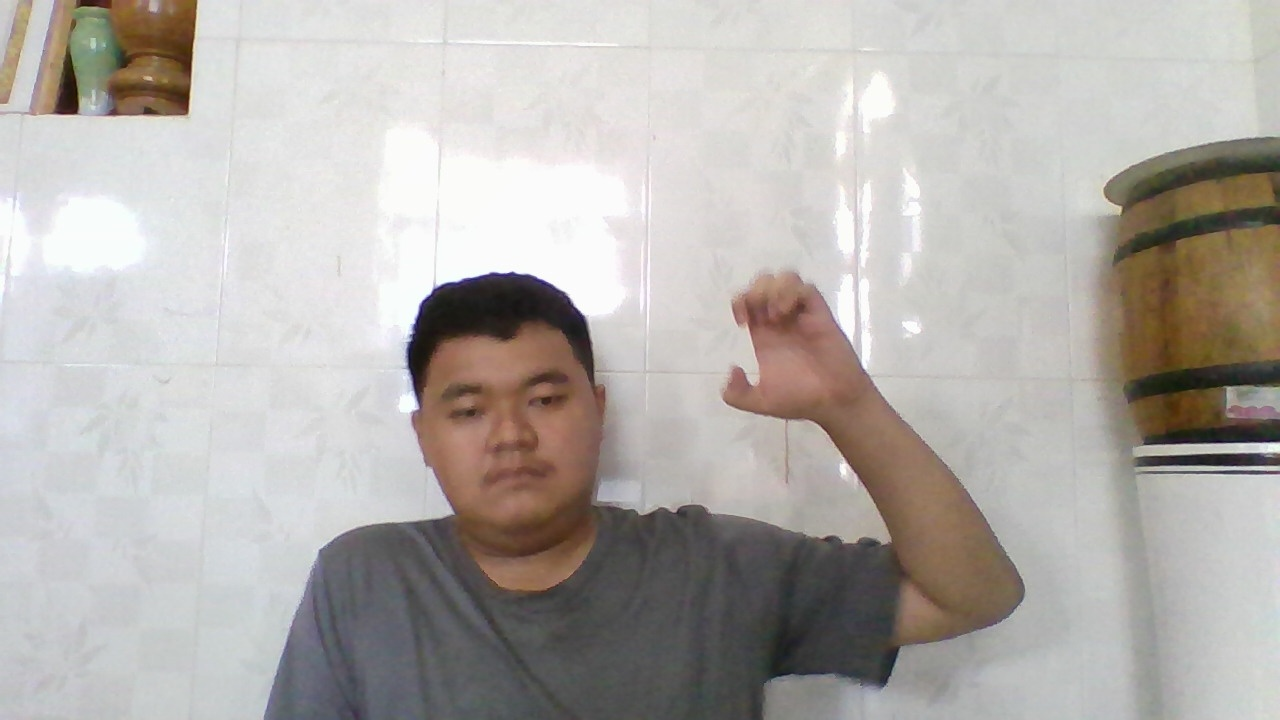E: (711, 260, 850, 425)
